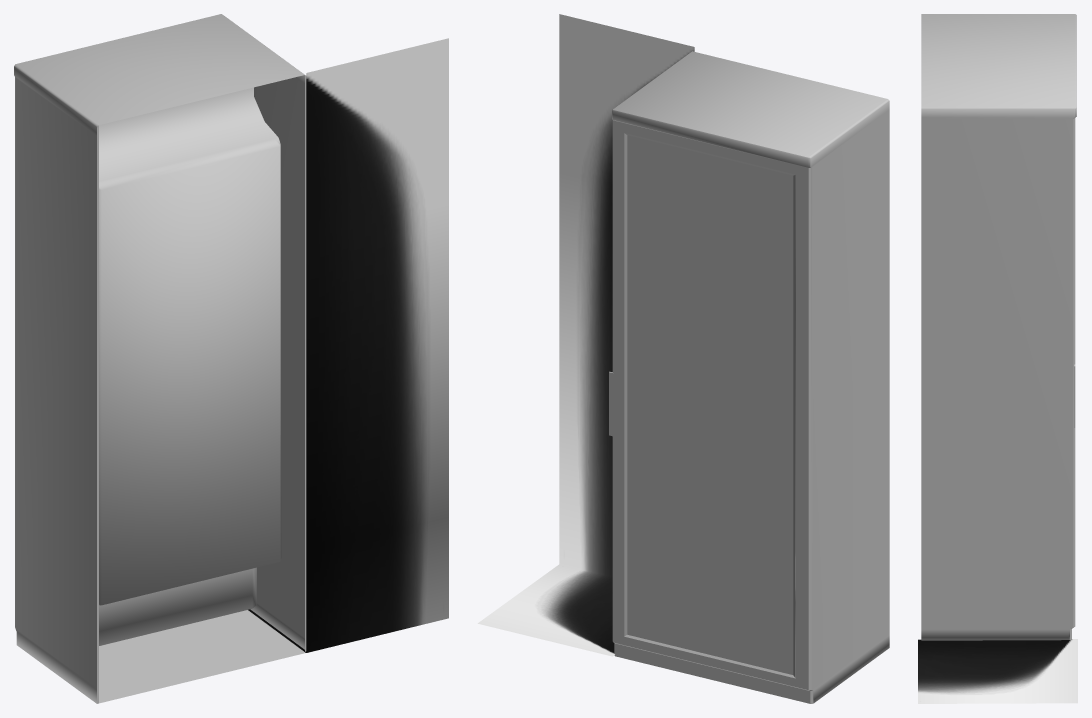
File: Fridge4.fbx
3 views of the same model, side by side, from view 1: azimuth 30°, elevation 25°; view 2: azimuth 150°, elevation 25°; view 3: azimuth 270°, elevation 25° (orthographic). The views are drawn at different scales.
Parts seen in each view (by area): view 1: Fridge4, Fridge4_shadow; view 2: Fridge4_glass, Fridge4, Fridge4_shadow; view 3: Fridge4, Fridge4_shadow.
Boxes of the visible parts, bbox=[...] form: Fridge4: bbox=[14, 14, 306, 703]; Fridge4_shadow: bbox=[248, 38, 448, 652]; Fridge4_glass: bbox=[624, 133, 795, 678]; Fridge4: bbox=[609, 51, 889, 703]; Fridge4_shadow: bbox=[477, 14, 694, 656]; Fridge4: bbox=[921, 14, 1076, 640]; Fridge4_shadow: bbox=[918, 639, 1077, 703].
Bounding box in the file's own units: 1.41 × 2.24 × 0.6046.
